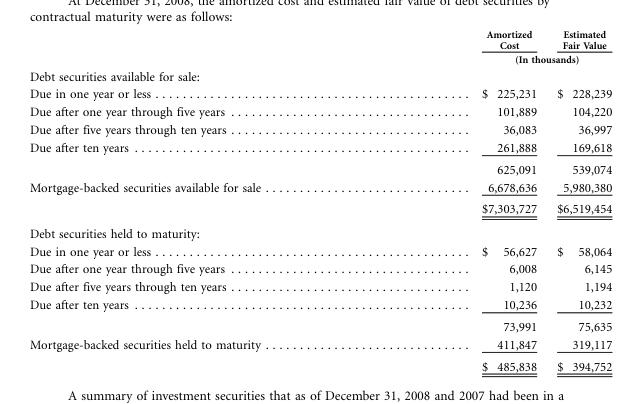table: (28, 28, 611, 372)
table column: (28, 28, 370, 372), (370, 28, 546, 372), (546, 28, 611, 372)
table column header: (28, 28, 611, 66)
table projected row header: (28, 220, 611, 242), (28, 66, 611, 84)
table row: (28, 28, 611, 51), (28, 197, 611, 220), (28, 220, 611, 242), (28, 138, 611, 158), (28, 158, 611, 178), (28, 295, 611, 315), (28, 315, 611, 335), (28, 335, 611, 355), (28, 178, 611, 197), (28, 66, 611, 84), (28, 84, 611, 102), (28, 102, 611, 120), (28, 120, 611, 138), (28, 259, 611, 277), (28, 277, 611, 295), (28, 242, 611, 259), (28, 355, 611, 372), (28, 51, 611, 66)
table spanning cell: (370, 51, 611, 66)
